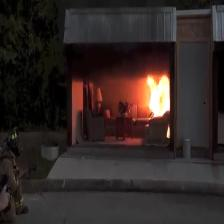fire: (146, 77, 169, 117)
